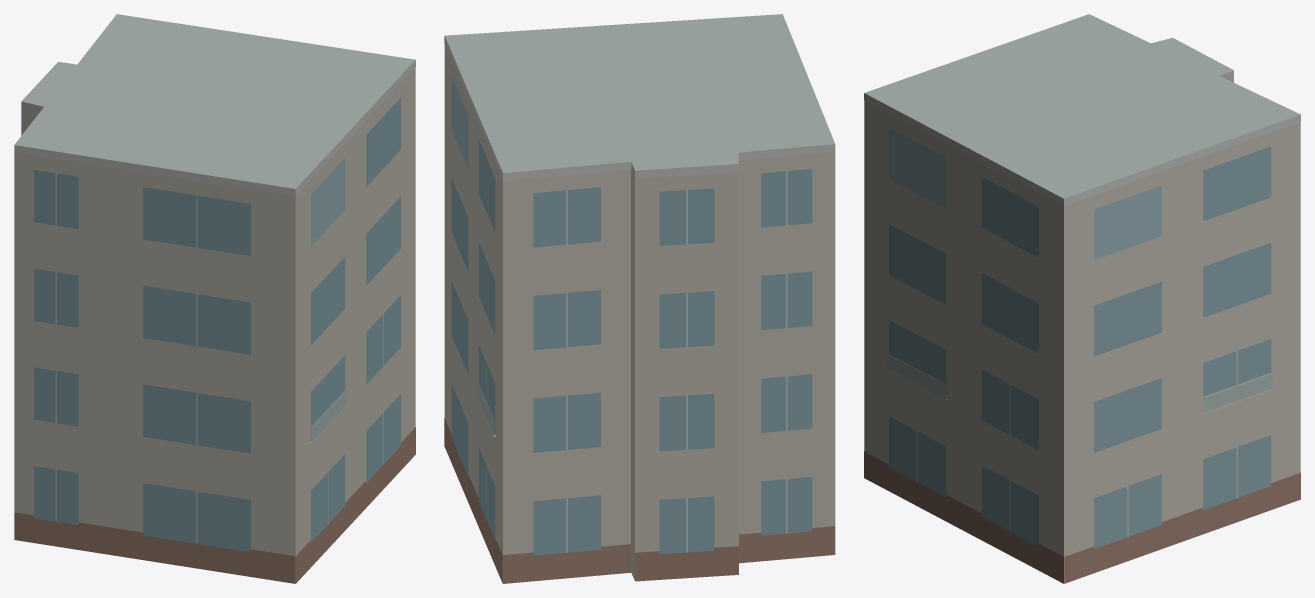
The model's file is survey-upis-32970418.glb.
The picture shows the model from 3 angles, left to right: view 1: azimuth 30°, elevation 25°; view 2: azimuth 150°, elevation 25°; view 3: azimuth 270°, elevation 25°; orthographic projection. The views are drawn at different scales.
Parts seen in each view (by area): view 1: survey-upis-32970418.tmp; view 2: survey-upis-32970418.tmp; view 3: survey-upis-32970418.tmp.
Boxes of the visible parts, box(x1,y1,x2,y2) form: survey-upis-32970418.tmp: box(14, 14, 415, 583); survey-upis-32970418.tmp: box(444, 14, 835, 583); survey-upis-32970418.tmp: box(864, 14, 1300, 583).
Bounding box in the file's own units: 13.08 × 12.7 × 13.06.
